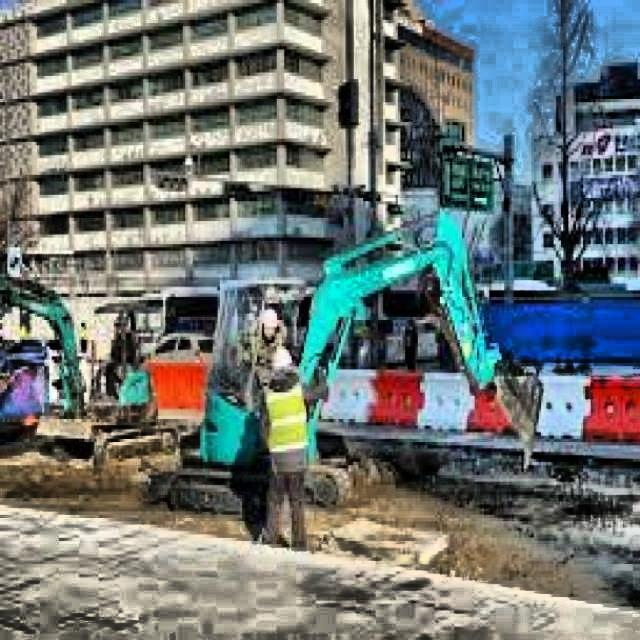bull_dozer/loader/grader: (145, 205, 548, 520), (0, 276, 182, 468)
person: (260, 346, 328, 551), (254, 308, 284, 393)
